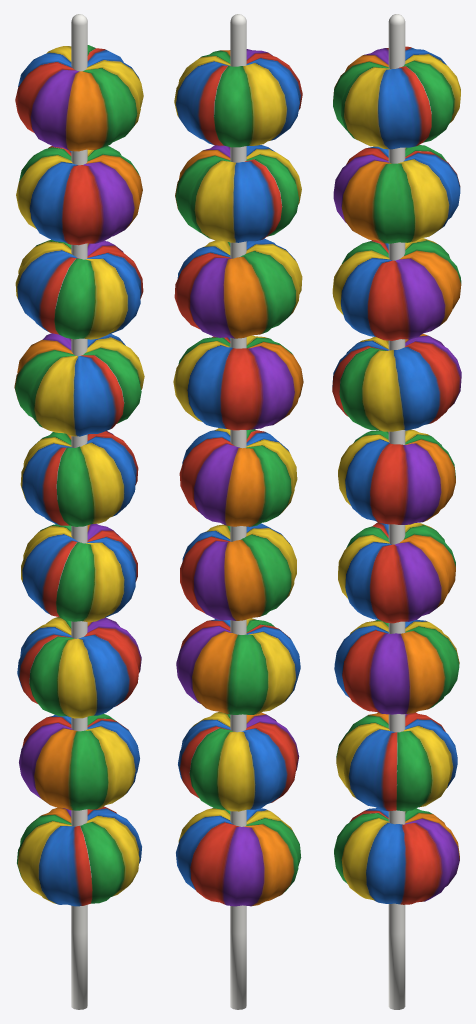
The model's file is skewer.glb.
The picture shows the model from 3 angles, left to right: view 1: azimuth 30°, elevation 25°; view 2: azimuth 210°, elevation 25°; view 3: azimuth 270°, elevation 25°; orthographic projection.
Visible parts, largest first — view 1: skewer; view 2: skewer; view 3: skewer.
Part boxes in pixels (x1,y1,x2,y2): skewer: (14,14,144,1009); skewer: (173,14,303,1009); skewer: (332,14,461,1009).
Size of the model in its own units: 0.3051 by 2.62 by 0.3102.
1 material, 1 textured.
